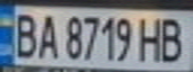1: (100, 12, 118, 61)
7: (81, 12, 100, 61)
8: (60, 11, 84, 61)
9: (115, 14, 139, 62)
A: (33, 10, 60, 60)
B: (157, 14, 190, 63), (9, 9, 39, 60)
H: (136, 14, 166, 63)
